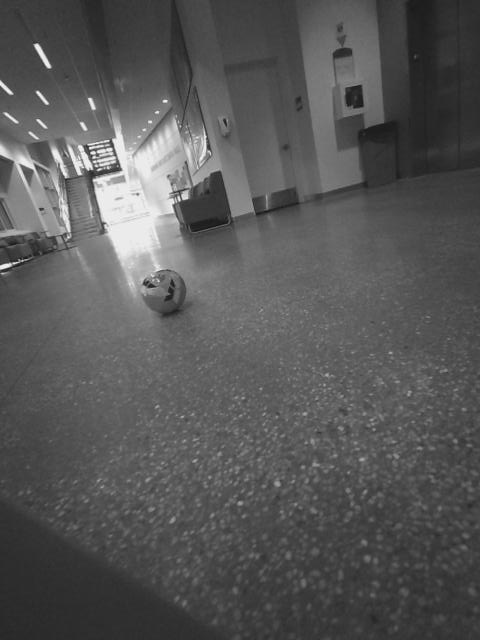ball: (135, 264, 196, 320)
